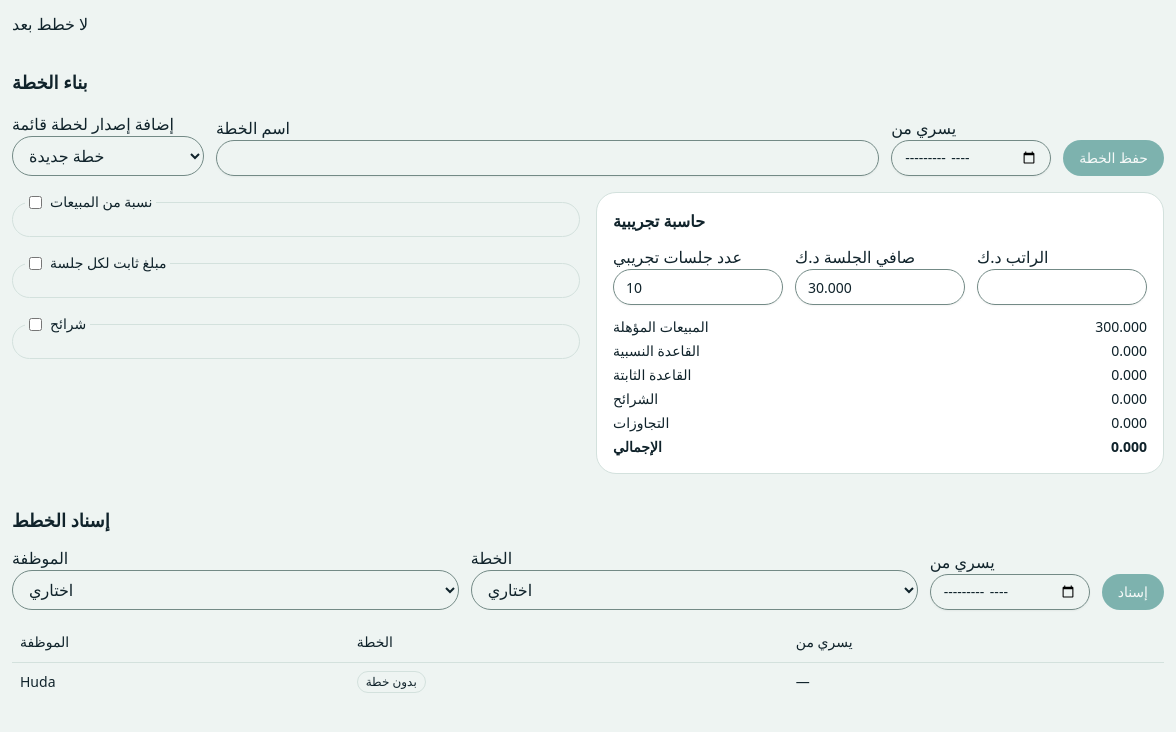
it: sends the built rules on create and flags an empty plan
Expected: the heading "بناء الخطة" is shown, [12,70,88,94]
Step 1. Type "Nails" into the field labelled "اسم الخطة" → coordinates (548, 158), box [216,140,879,176]
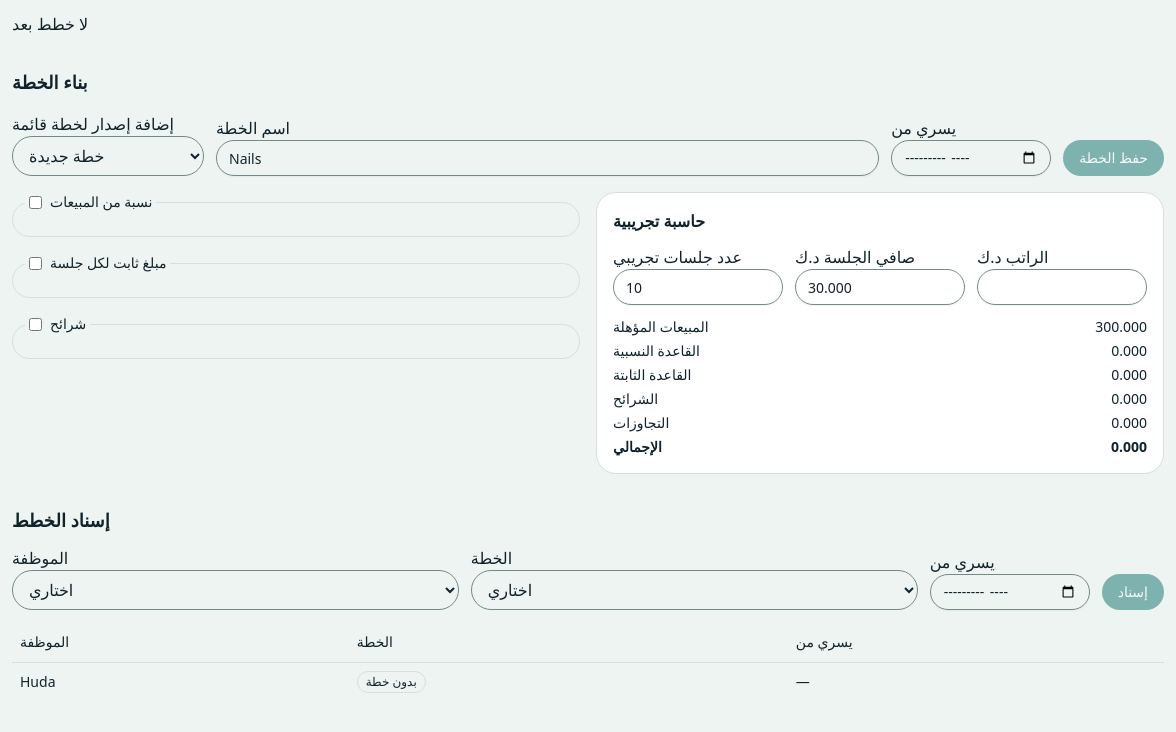
Step 2. Type "2027-04" into the 1st field labelled "يسري من" → coordinates (971, 158), box [891,140,1051,176]
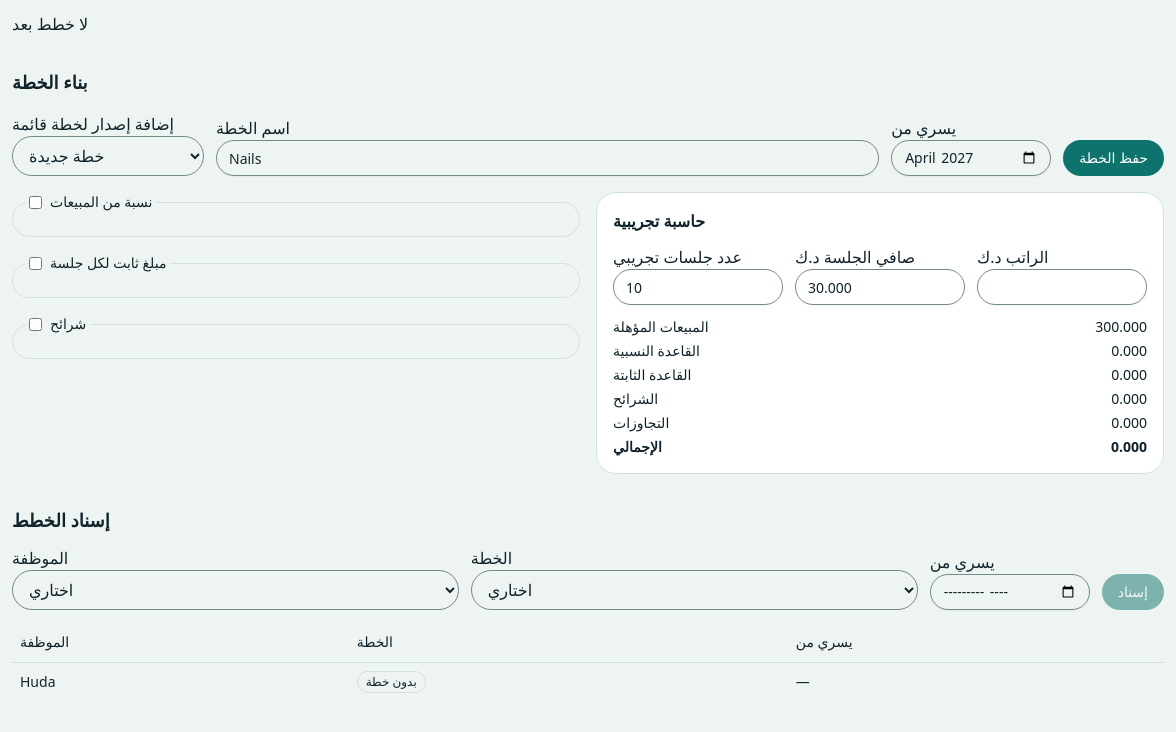
Step 3. Click the button "حفظ الخطة" → coordinates (1114, 158), box [1063,140,1164,176]
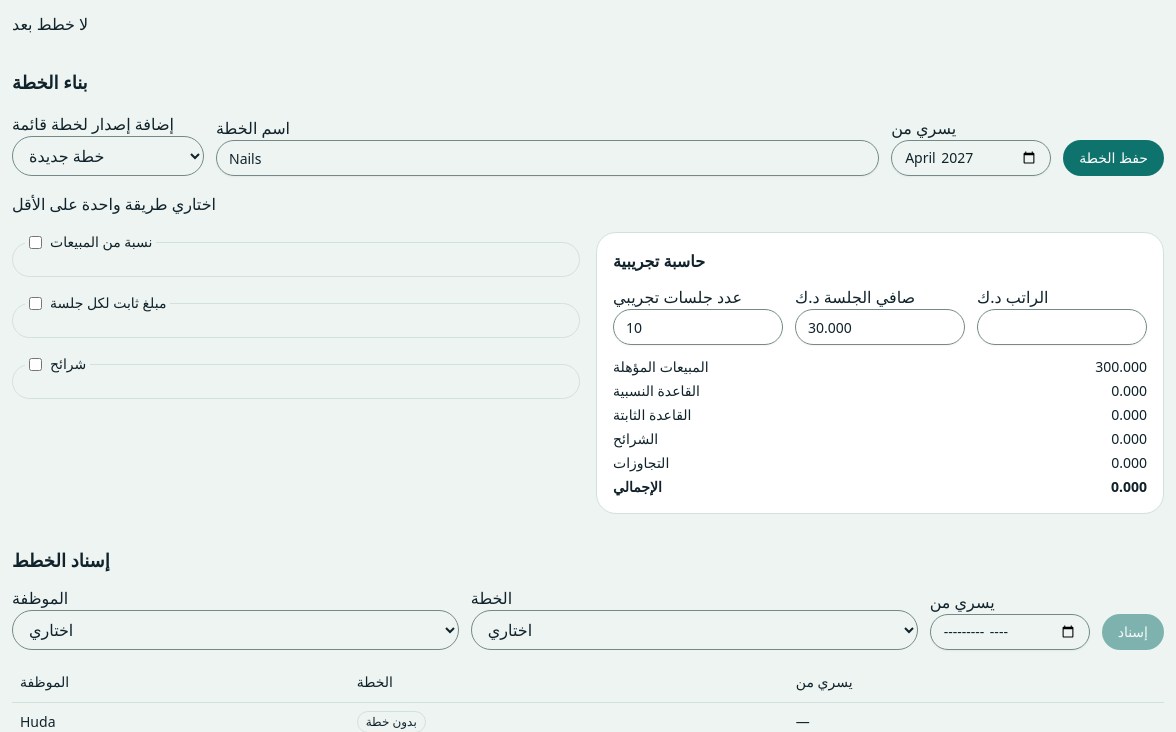
Now the text "اختاري طريقة واحدة على الأقل" is shown, box [12,193,216,215]
Step 4. Click the checkbox labelled "مبلغ ثابت لكل جلسة" → coordinates (36, 303), box [29,296,42,310]
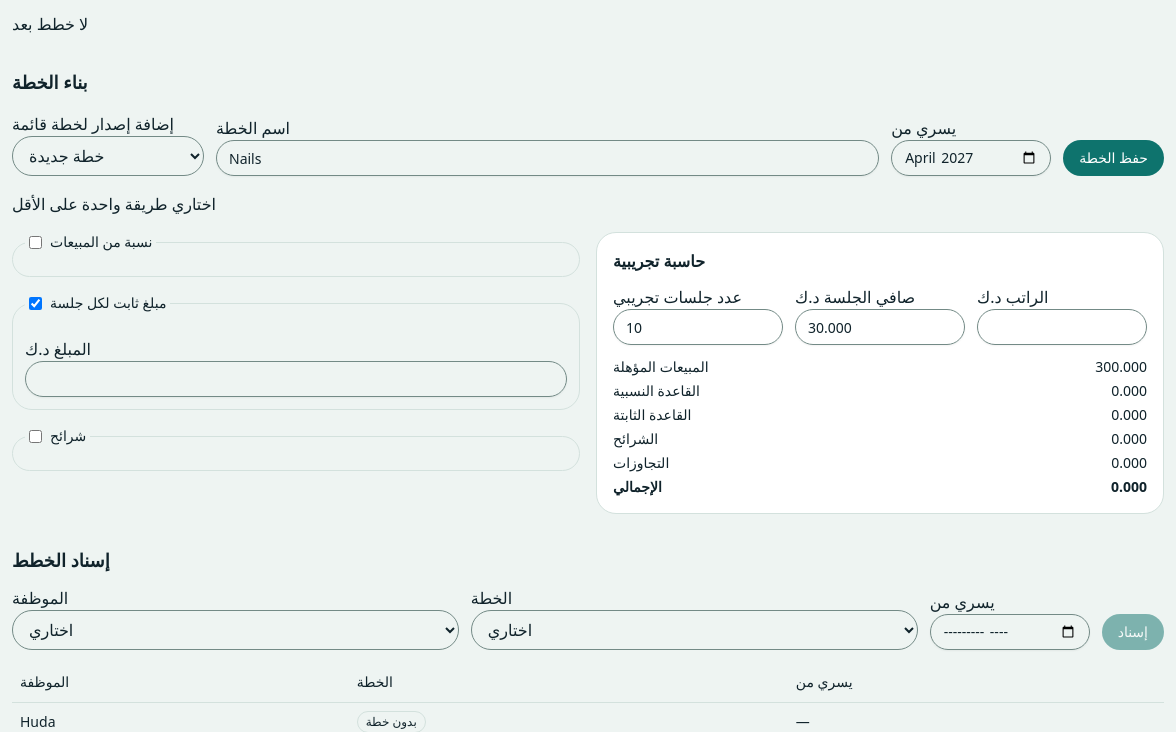
Step 5. Type "2.000" into the field labelled "المبلغ د.ك" → coordinates (296, 379), box [25,361,567,397]
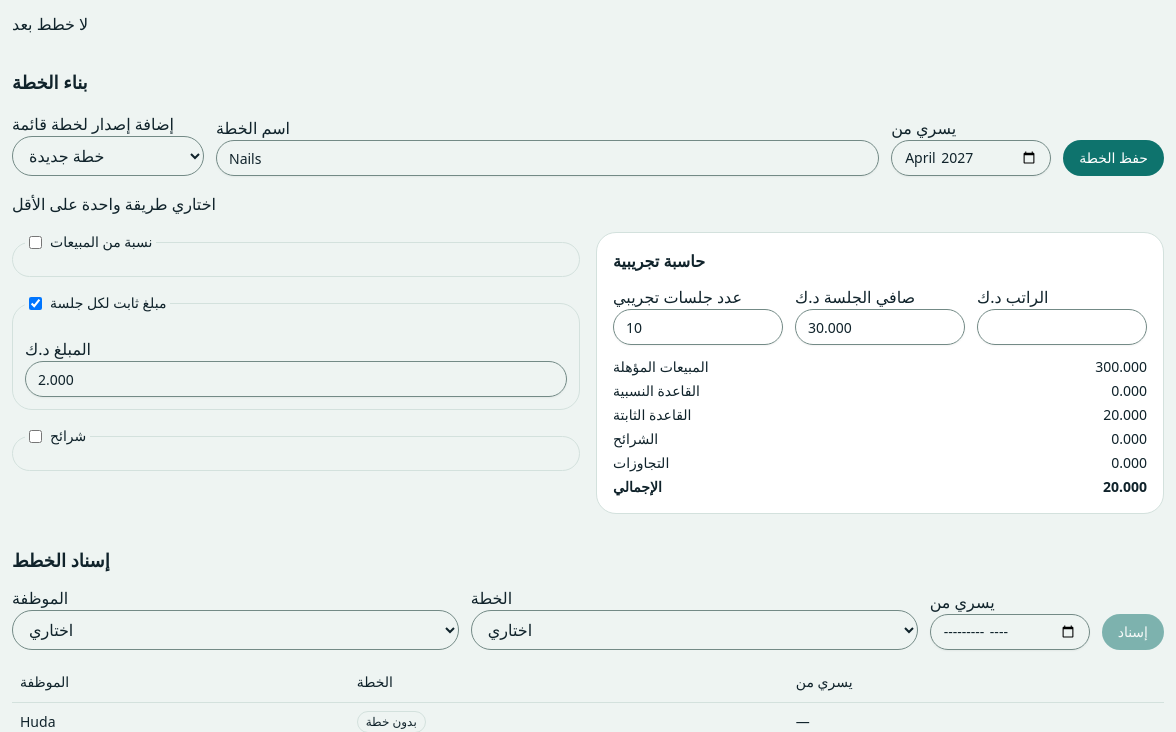
Step 6. Click the button "حفظ الخطة" → coordinates (1114, 158), box [1063,140,1164,176]
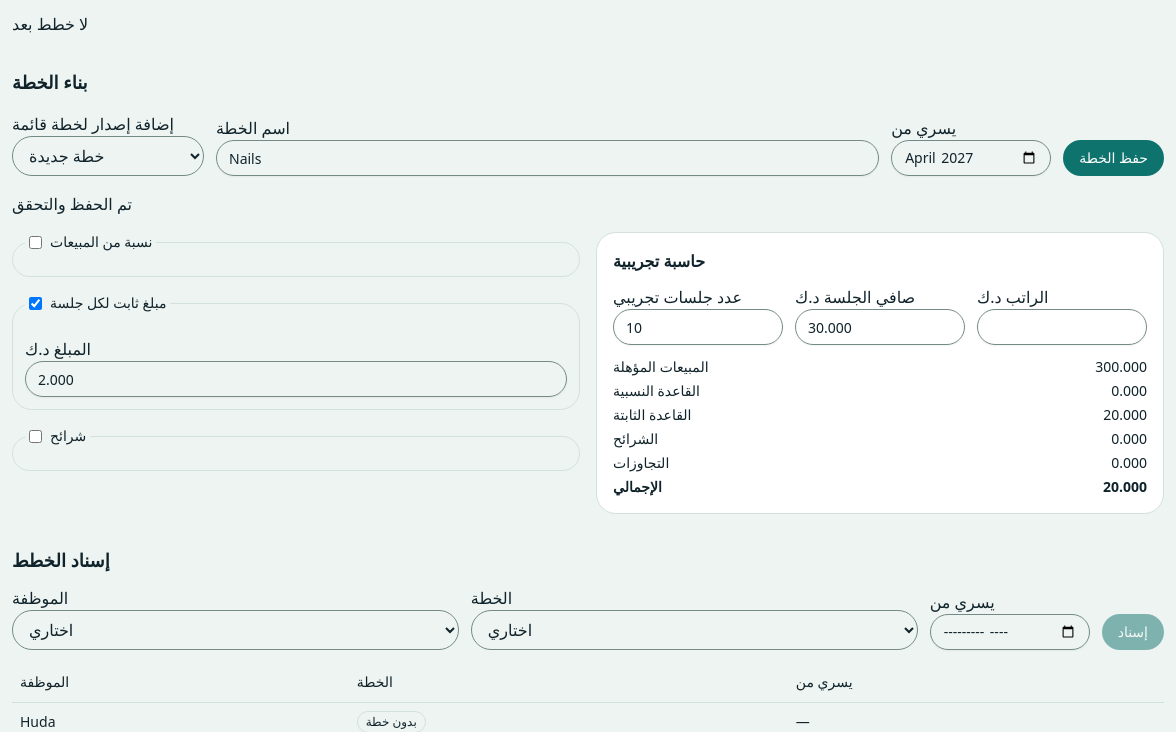
Now the text "تم الحفظ والتحقق" is shown, box [12,193,132,215]
